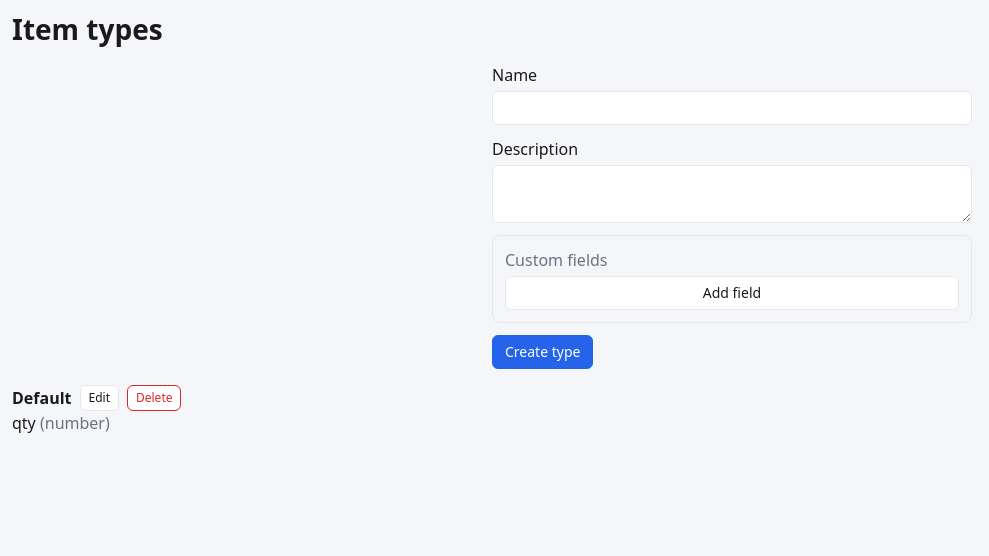
Test: item types page › shows the field editor for the type being edited
This screenshot has width=989, height=556.
Expected: the field labelled "New field name" is not shown
Click the button "Edit": [99, 398] box 80,385 -> 119,411
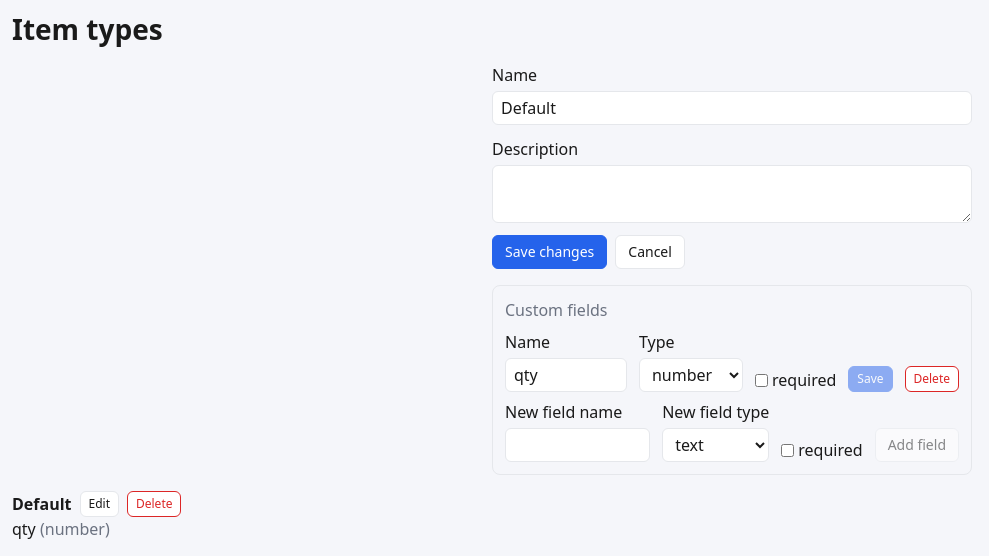
Expected: the field labelled "New field name" is shown, 505,428 -> 650,462
Expected: the field showing "qty" below "Custom fields" is shown, 505,358 -> 627,392
